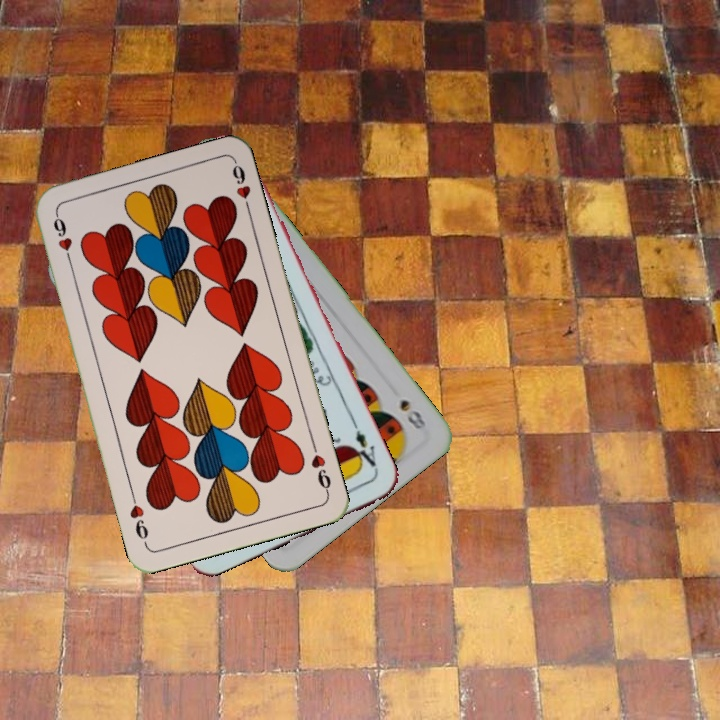EA: (348, 419, 382, 475)
H9: (307, 439, 334, 497), (49, 209, 75, 267)
S8: (395, 395, 429, 432)
